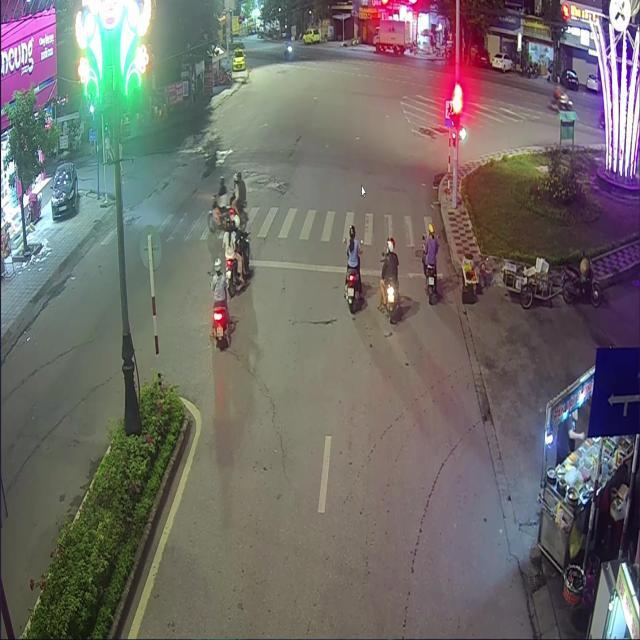motobike: (225, 229, 250, 296), (207, 191, 236, 231), (210, 303, 231, 349), (383, 275, 399, 326), (343, 270, 362, 311), (230, 192, 247, 229), (424, 265, 436, 305)
red_light: (452, 97, 459, 127)
stop_line: (231, 258, 442, 280)
